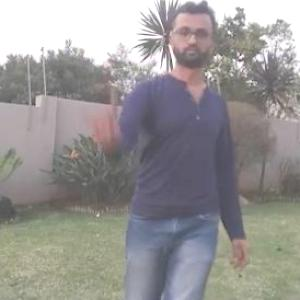takeoff-hand: (76, 94, 124, 152)
